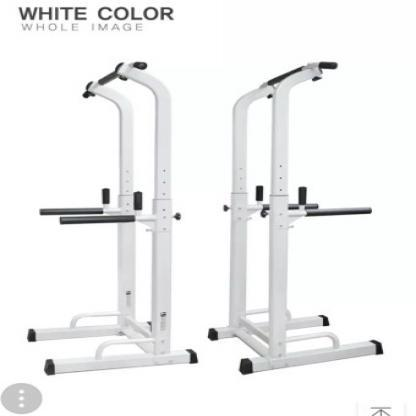chinning dipping: (208, 61, 385, 376), (27, 59, 198, 375)
